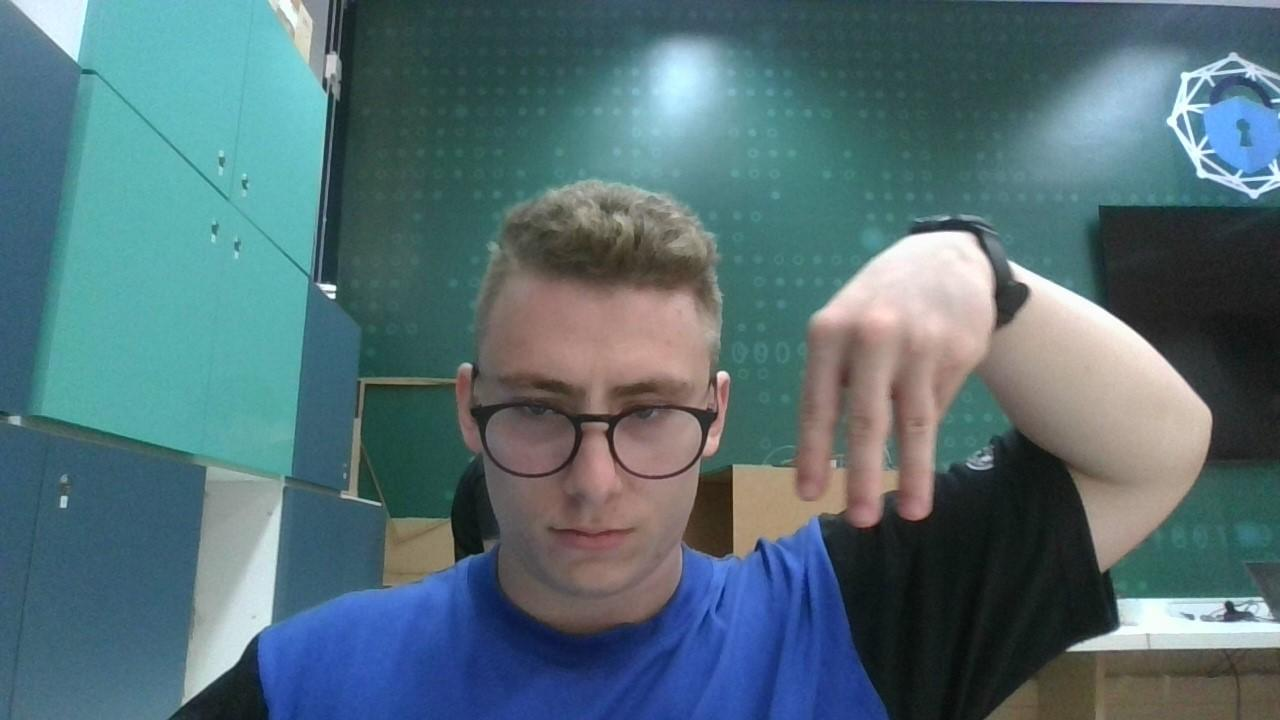M: (788, 230, 994, 536)
